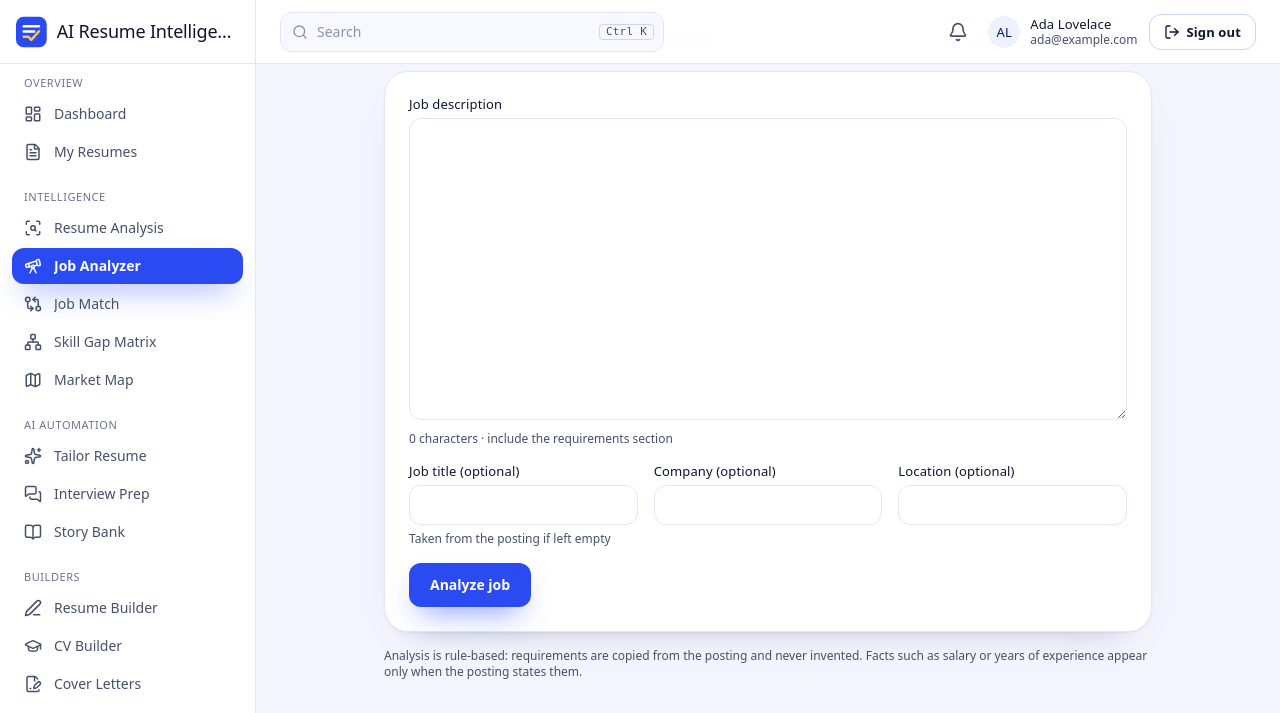
Job Analyzer › validates pasted text and creates a job
The image size is (1280, 713).
(page scrolled)
Click the button "Analyze job" at [470, 585], box left=409, top=563, right=531, bottom=607
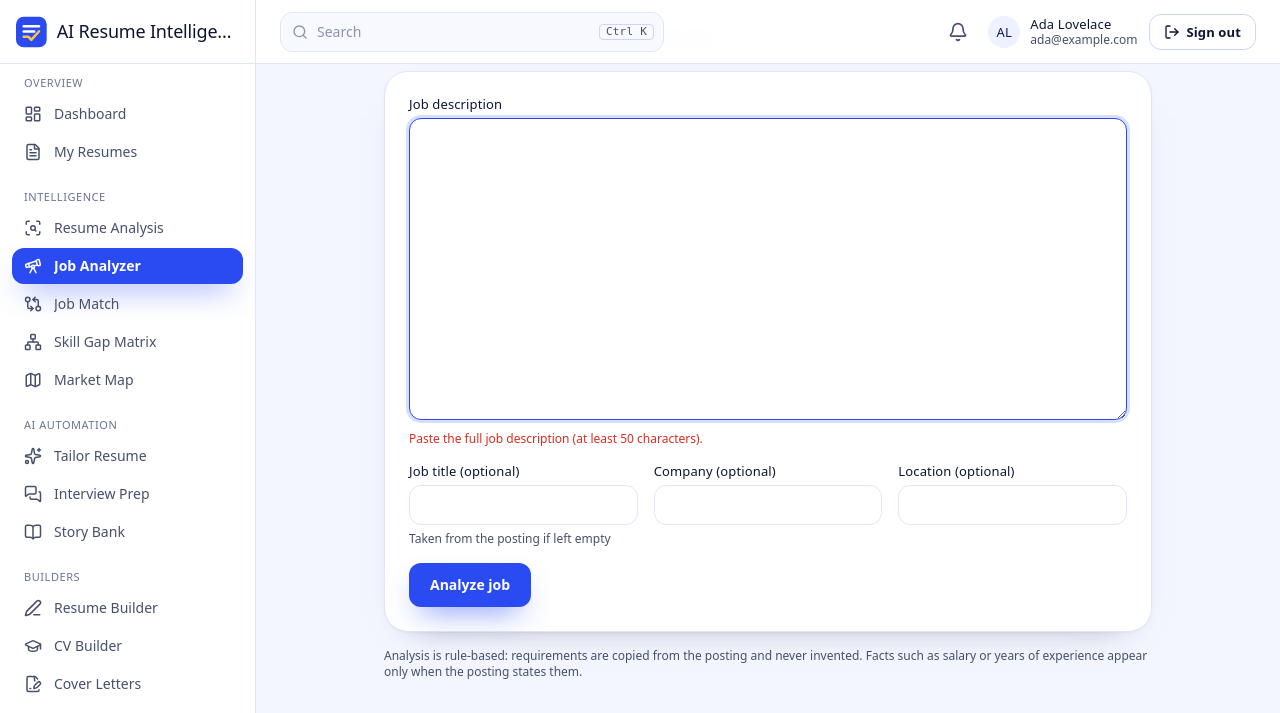
Expected: the text "Paste the full job description (at least 50 characters)." is shown, left=409, top=430, right=703, bottom=447
Type "Senior Backend Engineer. Requirements: 5+ years with Python and PostgreSQL." into the text box labelled "Job description" at [768, 269], box left=409, top=118, right=1127, bottom=420
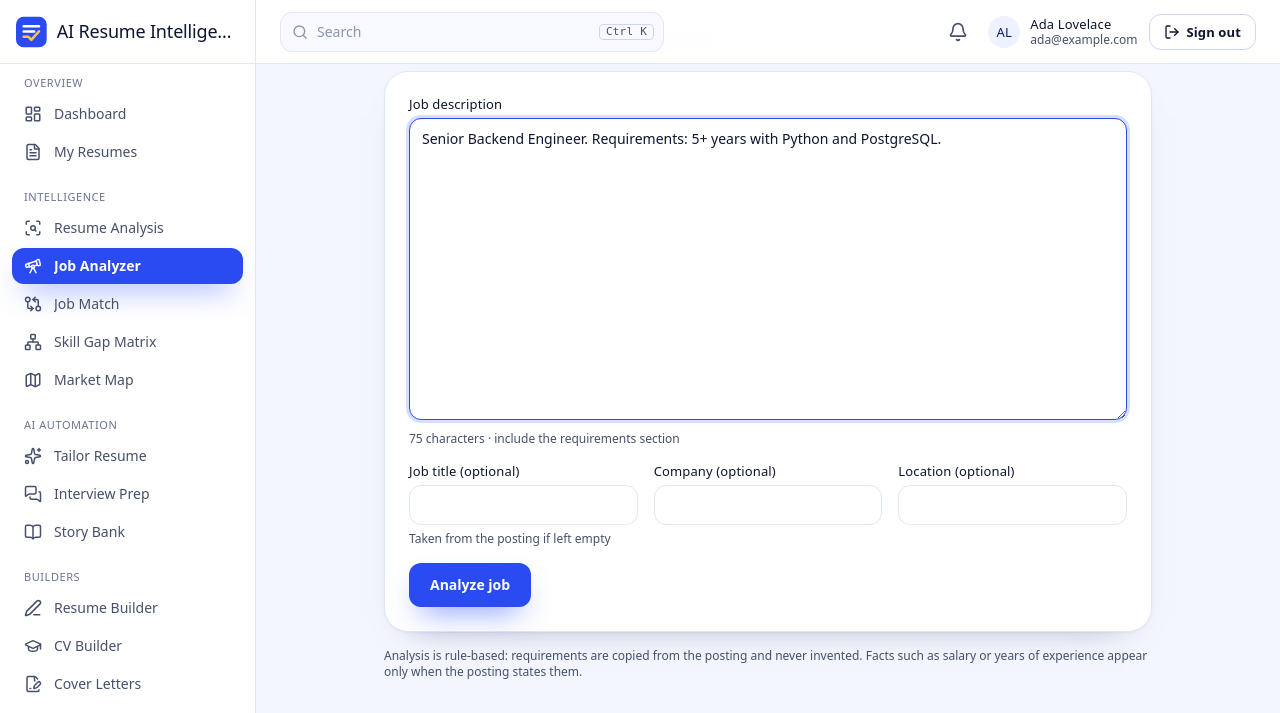
Type "Acme" into the field labelled "Company (optional)" at [768, 505], box left=654, top=485, right=882, bottom=525
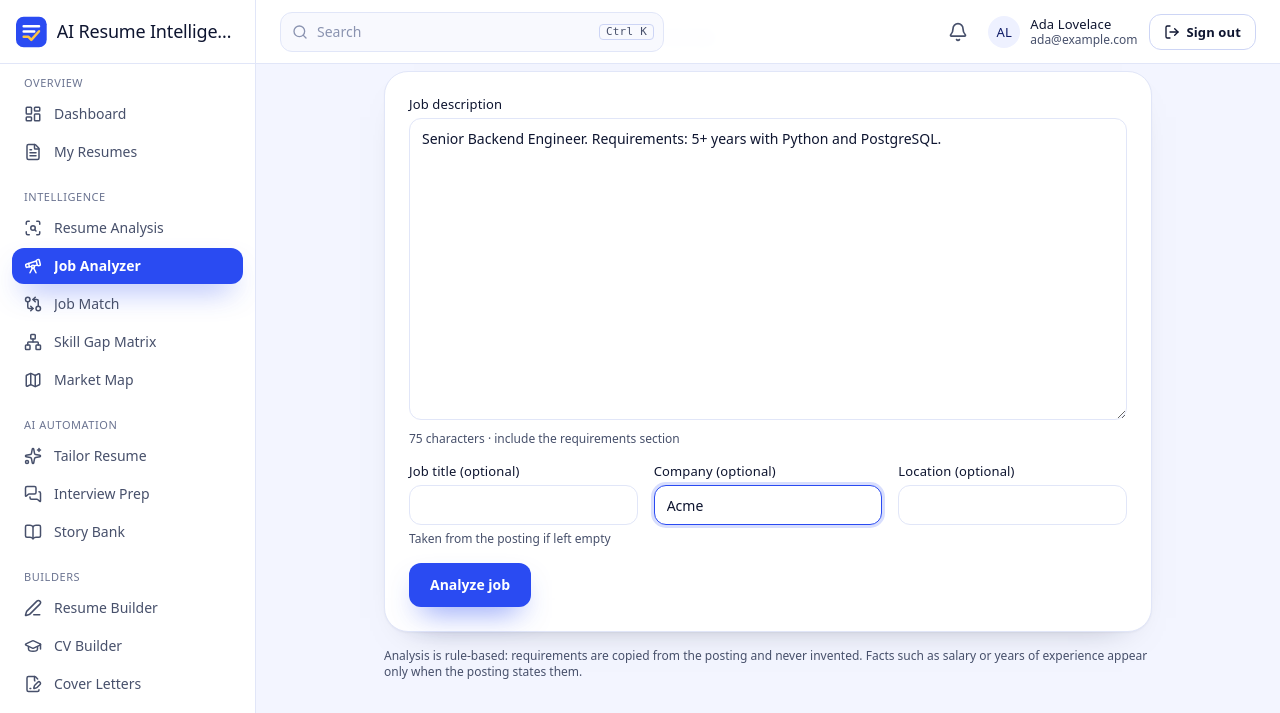
Click the button "Analyze job" at [470, 585], box left=409, top=563, right=531, bottom=607
(page scrolled)
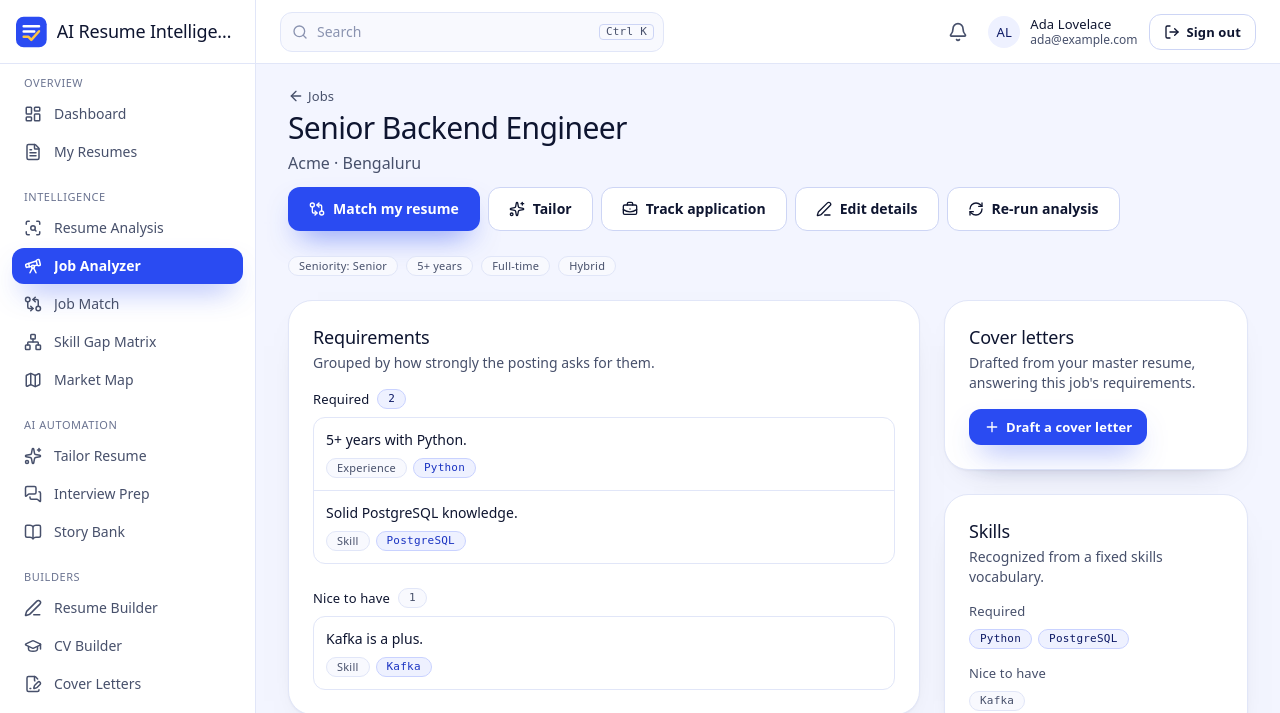
Expected: the heading "Senior Backend Engineer" is shown, left=288, top=109, right=627, bottom=147
